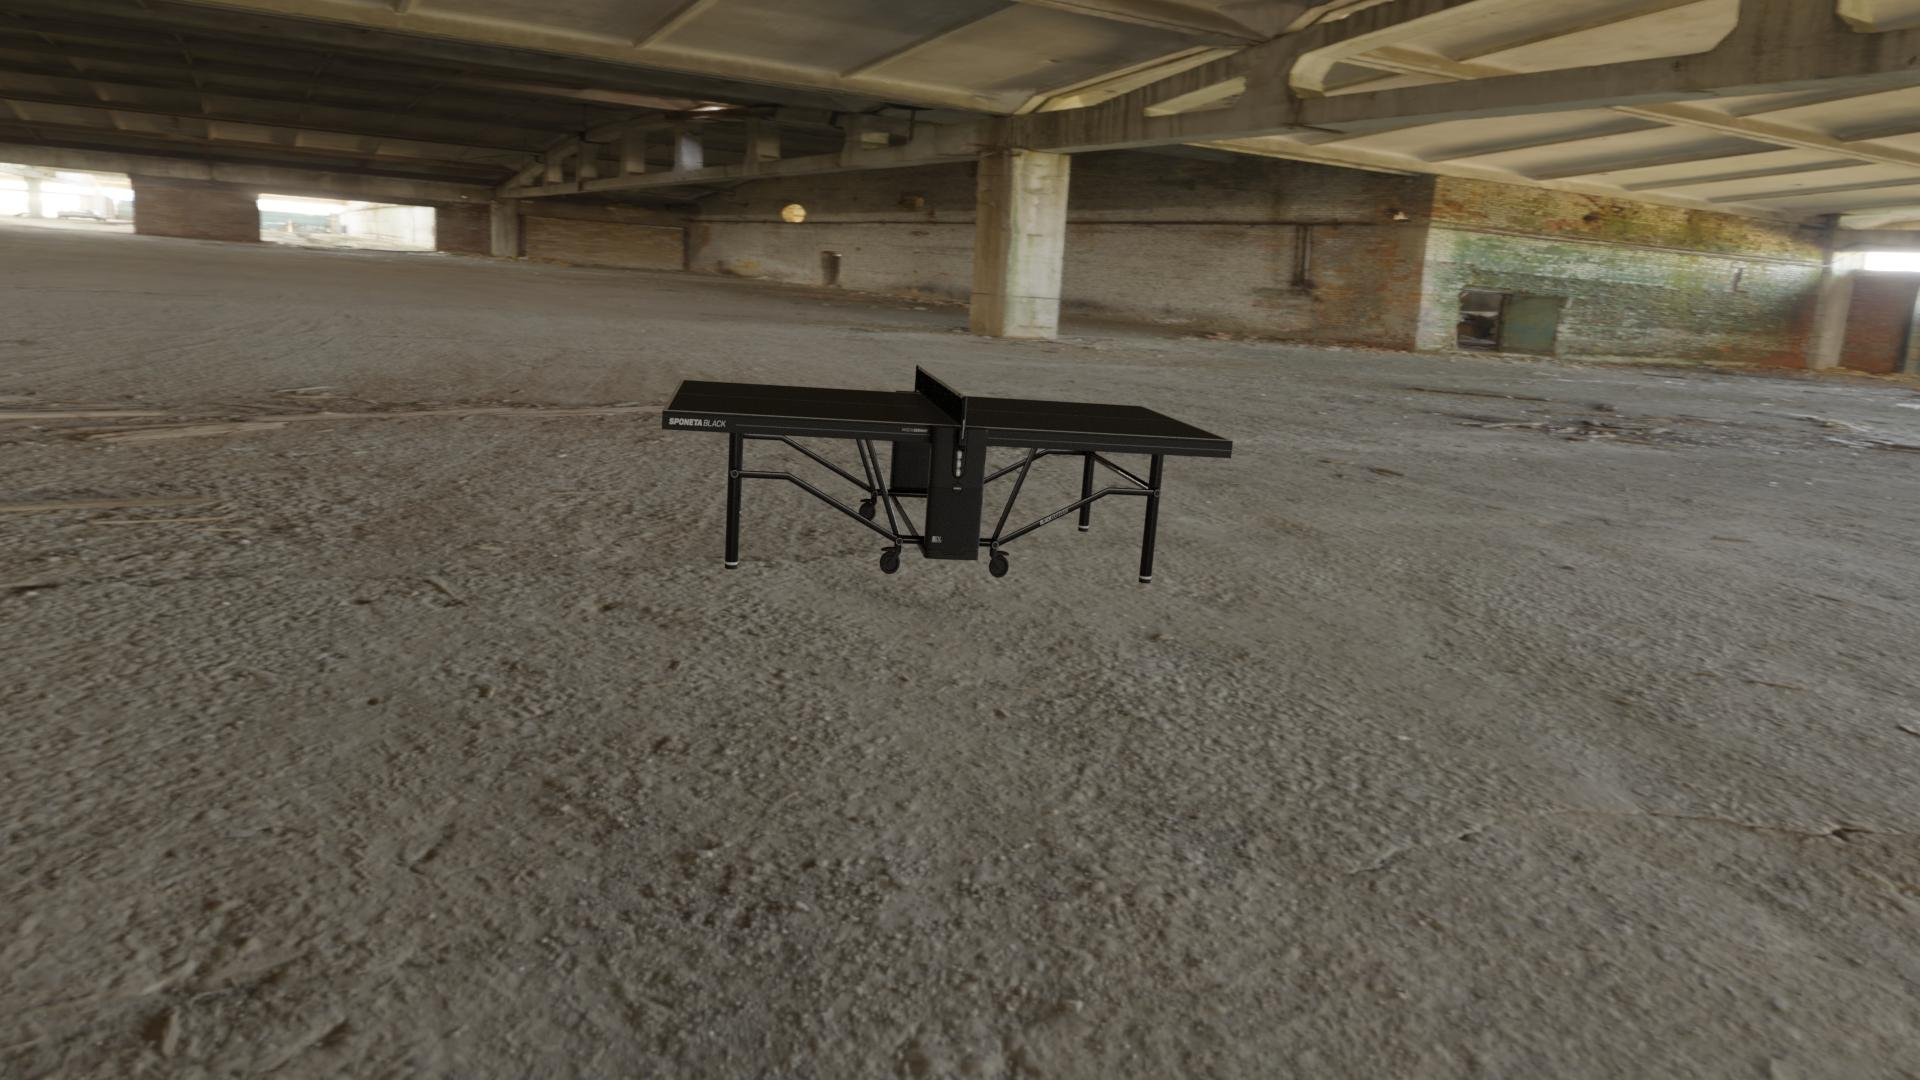table: (667, 380, 1228, 440)
